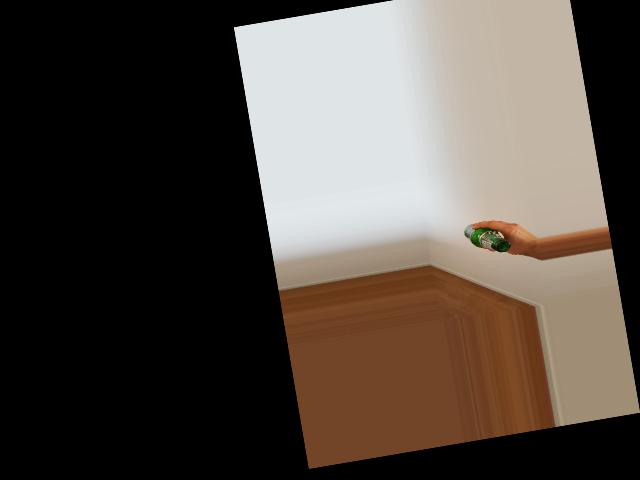beer: (463, 218, 512, 259)
